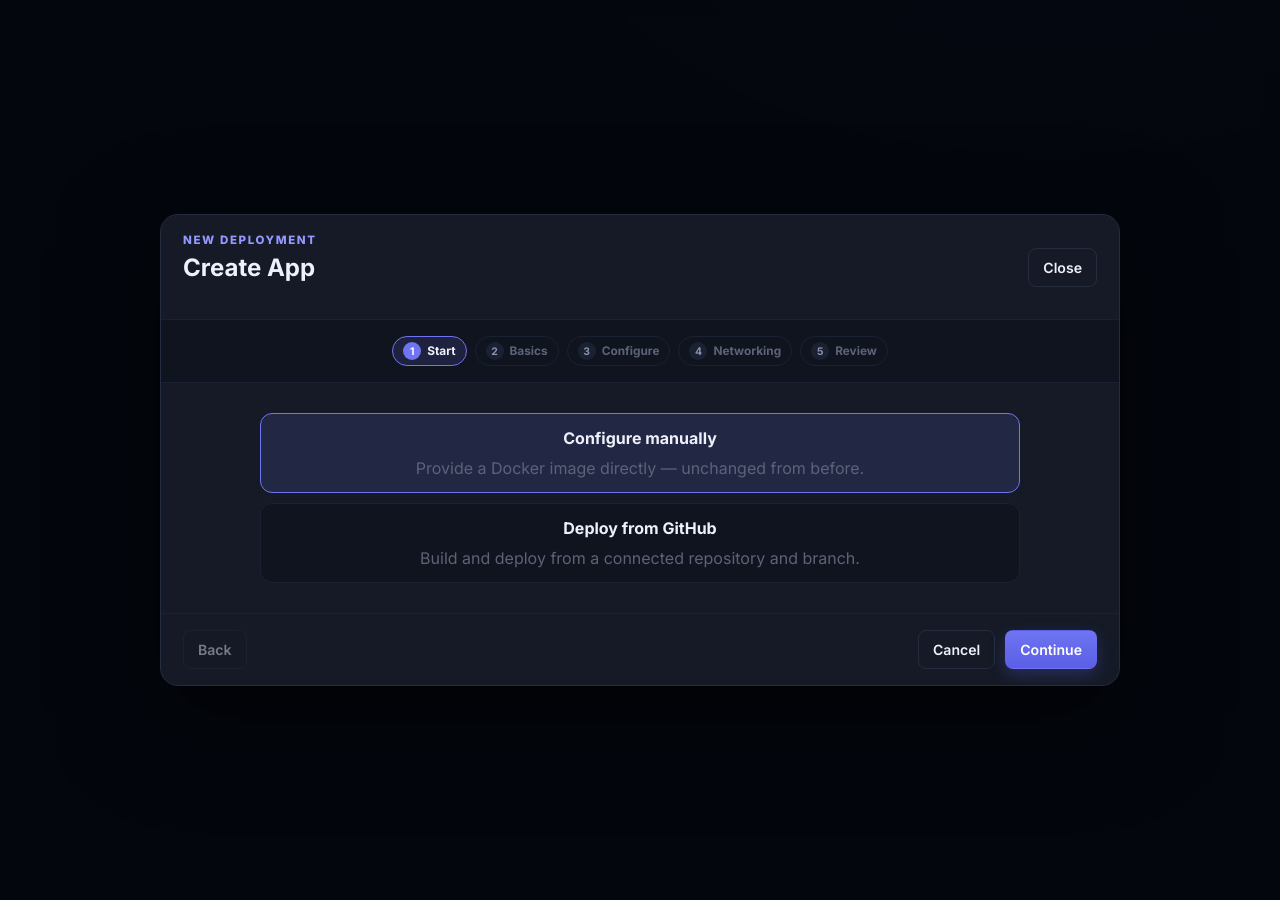
CreateAppWizard — GitHub App awareness on the Source step › GitHub App not configured: explains the fallback instead of offering a dead Connect action
The image size is (1280, 900).
Click the text "Deploy from GitHub" at (640, 528), box [563, 518, 717, 538]
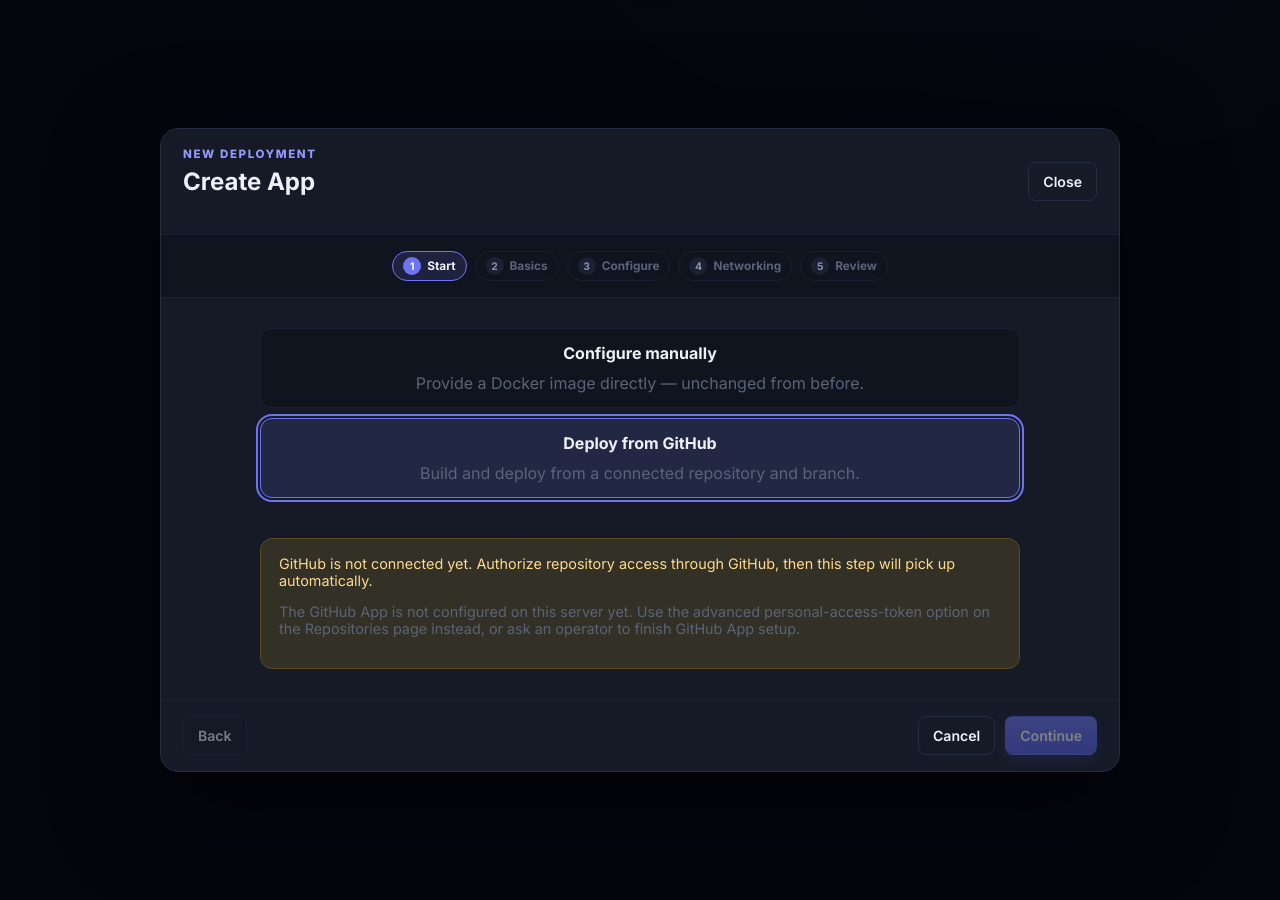
Now the text "GitHub App is not configured on this server yet" is shown, box [279, 604, 990, 638]
